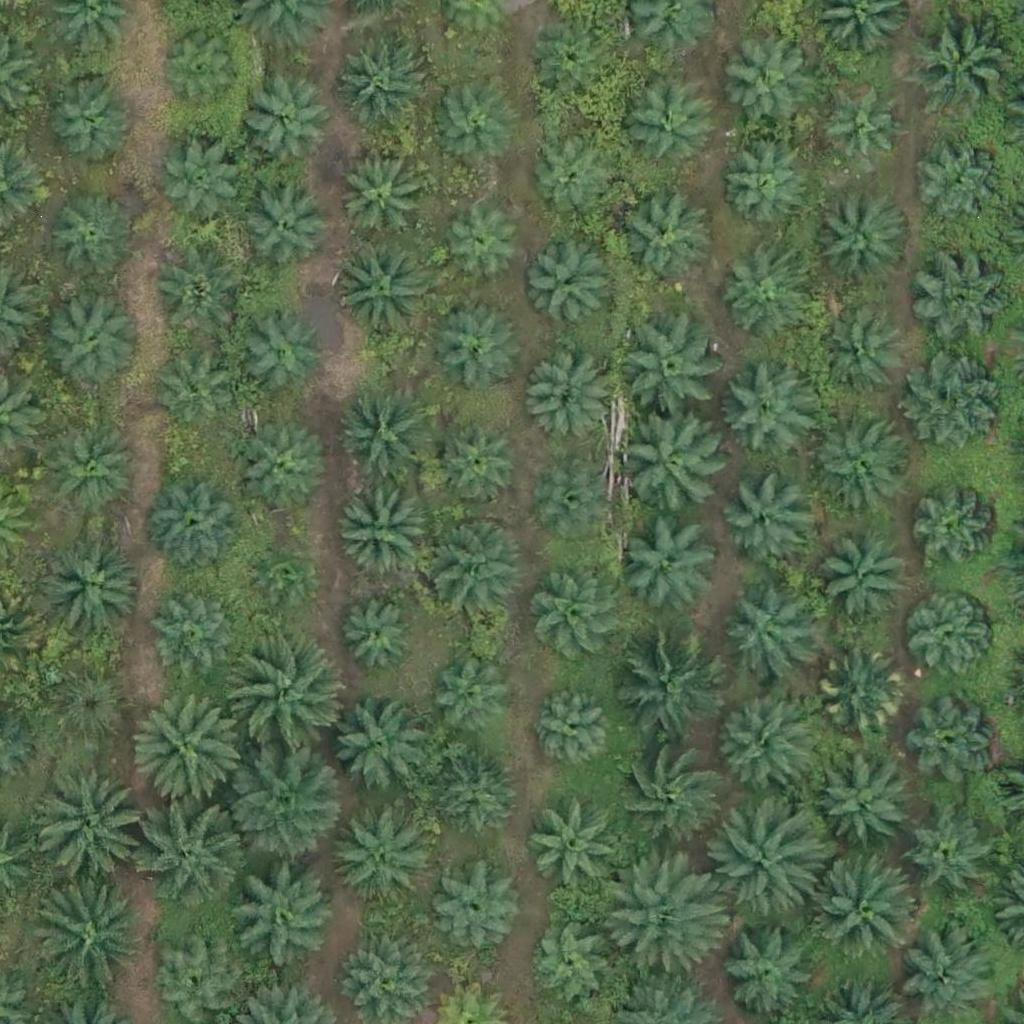Kelapa_Sawit: (31, 772, 144, 886), (614, 410, 727, 524), (226, 749, 339, 862), (227, 859, 340, 972), (137, 795, 250, 908), (133, 691, 246, 804), (27, 886, 140, 999), (713, 810, 825, 924), (614, 634, 726, 748), (233, 639, 345, 753), (810, 856, 922, 969), (606, 854, 718, 967), (610, 741, 722, 854), (815, 754, 915, 855), (714, 915, 814, 1016), (626, 515, 726, 616), (525, 799, 625, 900), (420, 515, 520, 616), (329, 803, 429, 904), (147, 475, 247, 576), (39, 532, 139, 633), (41, 284, 141, 385), (39, 417, 139, 518), (333, 243, 433, 344), (336, 383, 436, 484), (611, 193, 711, 294), (626, 318, 726, 419), (716, 30, 816, 131), (810, 413, 910, 514), (911, 8, 1011, 109), (910, 246, 1010, 347), (908, 350, 1008, 451), (709, 697, 809, 797), (334, 482, 434, 582), (328, 698, 428, 798), (717, 356, 817, 456), (527, 685, 615, 774), (719, 475, 807, 563), (720, 591, 808, 679), (535, 575, 623, 663), (429, 648, 517, 736), (41, 665, 129, 753), (150, 596, 238, 684), (46, 75, 134, 163), (47, 195, 135, 283), (161, 139, 249, 227), (154, 253, 242, 341), (239, 82, 327, 170), (243, 183, 331, 271), (235, 312, 323, 400), (337, 42, 425, 130), (533, 21, 621, 109), (620, 81, 708, 169), (718, 146, 806, 234), (820, 190, 908, 278), (915, 140, 1003, 228), (814, 83, 901, 172), (910, 489, 997, 577), (907, 598, 994, 686), (910, 697, 997, 785), (907, 814, 994, 902), (817, 650, 904, 738), (816, 535, 903, 623), (432, 753, 519, 841), (527, 923, 614, 1011), (342, 933, 429, 1021), (429, 864, 516, 952), (152, 348, 239, 436), (155, 30, 242, 118), (242, 428, 329, 516), (340, 156, 427, 244), (435, 420, 522, 508), (435, 302, 522, 390), (442, 198, 529, 286), (430, 75, 517, 163), (529, 138, 616, 226), (528, 247, 615, 335), (525, 355, 612, 443), (717, 253, 804, 341), (815, 311, 902, 399), (339, 598, 414, 674), (539, 465, 614, 541), (250, 542, 312, 605)
